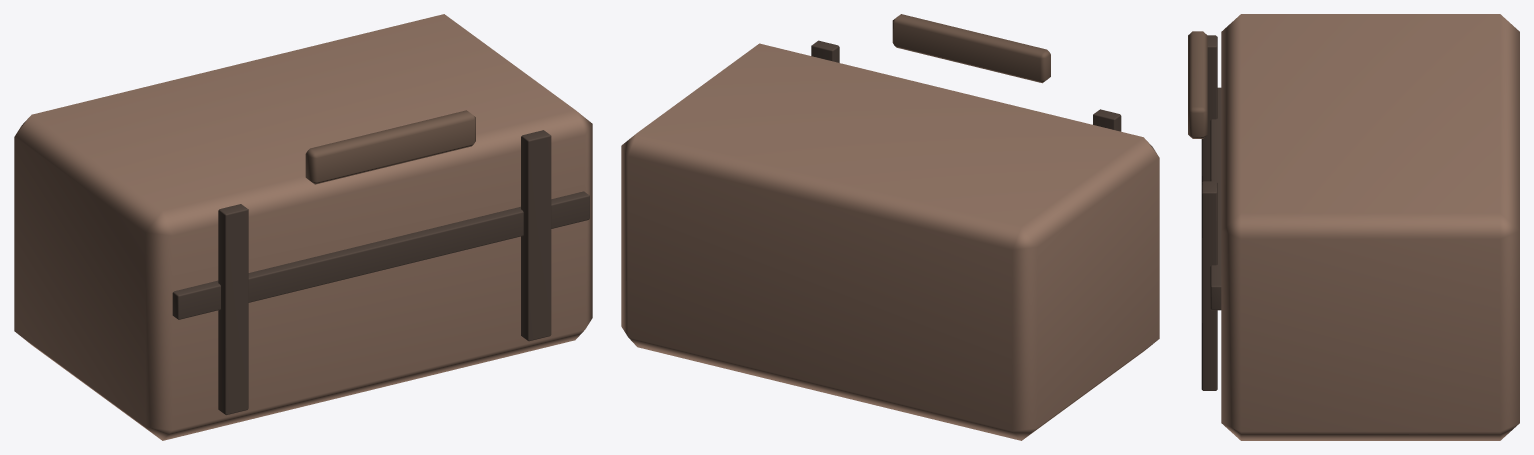
The model's file is prop_old_suitcase_01.glb.
3 renders of one model, left to right at view 1: azimuth 30°, elevation 25°; view 2: azimuth 150°, elevation 25°; view 3: azimuth 270°, elevation 25°, orthographic. The views are drawn at different scales.
Parts seen in each view (by area): view 1: suitcase_body.001, suitcase_lid_line.001, suitcase_handle.001, suitcase_strap_right.001, suitcase_strap_left.001; view 2: suitcase_body.001, suitcase_handle.001; view 3: suitcase_body.001, suitcase_strap_right.001, suitcase_handle.001, suitcase_lid_line.001, suitcase_strap_left.001.
Part boxes in pixels (box(x1,y1,x2,y2)): suitcase_body.001: box(14, 14, 592, 440); suitcase_lid_line.001: box(172, 191, 589, 319); suitcase_handle.001: box(305, 110, 475, 184); suitcase_strap_right.001: box(521, 130, 551, 341); suitcase_strap_left.001: box(218, 204, 248, 415); suitcase_body.001: box(621, 43, 1159, 440); suitcase_handle.001: box(892, 14, 1050, 83); suitcase_body.001: box(1221, 14, 1519, 440); suitcase_strap_right.001: box(1201, 181, 1217, 390); suitcase_handle.001: box(1188, 31, 1207, 138); suitcase_lid_line.001: box(1210, 87, 1221, 310); suitcase_strap_left.001: box(1201, 35, 1217, 182).
Size of the model in its own units: 0.65 by 0.3825 by 0.4225.
